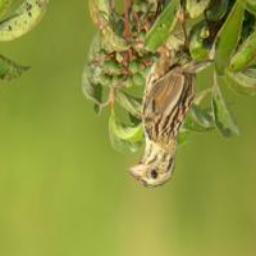Sparrow: (127, 6, 216, 193)
